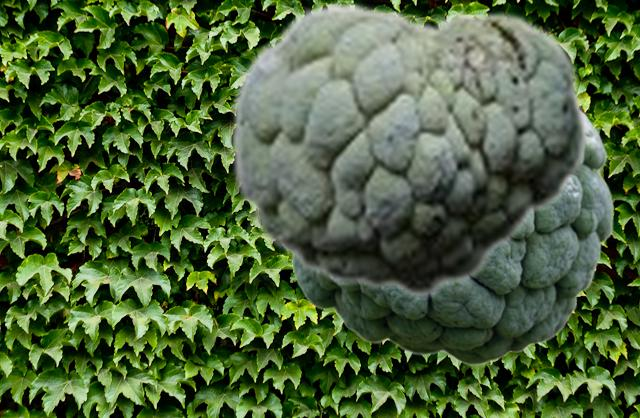atis: (229, 0, 588, 298), (288, 115, 613, 365)
